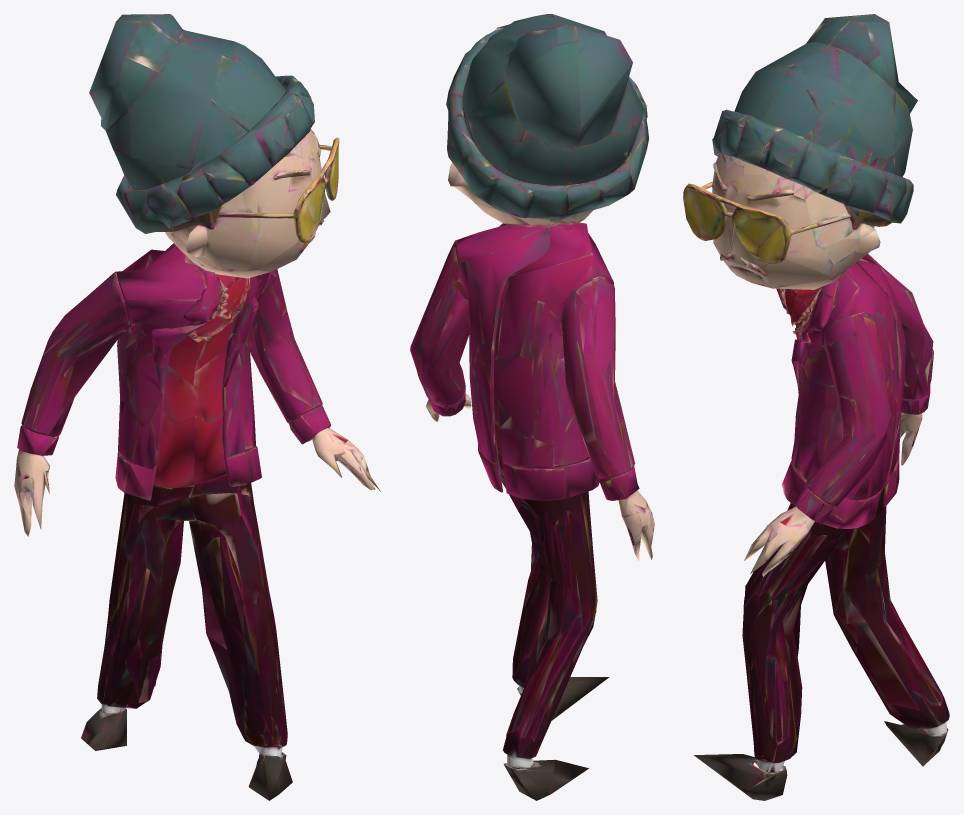
File: bigmorty.glb
The picture shows the model from 3 angles, left to right: view 1: azimuth 30°, elevation 25°; view 2: azimuth 150°, elevation 25°; view 3: azimuth 270°, elevation 25°; orthographic projection. The views are drawn at different scales.
Parts seen in each view (by area): view 1: char1; view 2: char1; view 3: char1.
Part boxes in pixels (x1,y1,x2,y2): char1: (14, 14, 380, 800); char1: (410, 14, 654, 800); char1: (683, 14, 949, 800).
Size of the model in its own units: 0.5804 by 1.46 by 0.4764.
1 material, 1 textured.
